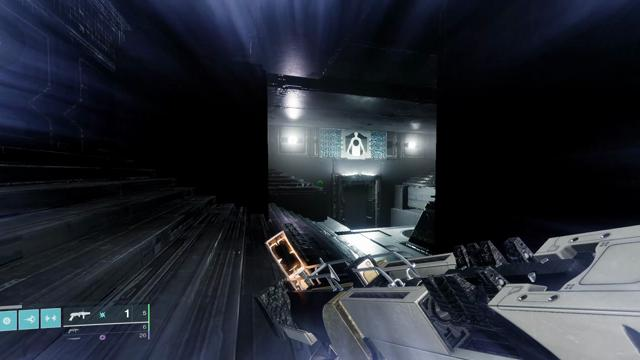grief: (346, 132, 367, 156)
